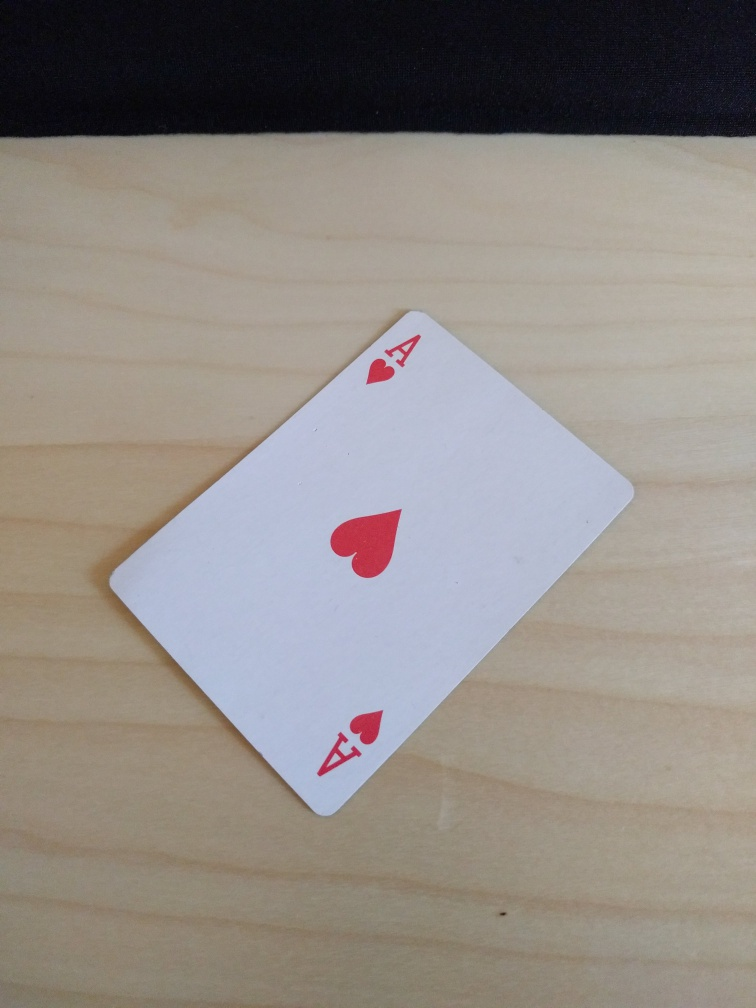ace: (106, 309, 636, 819)
